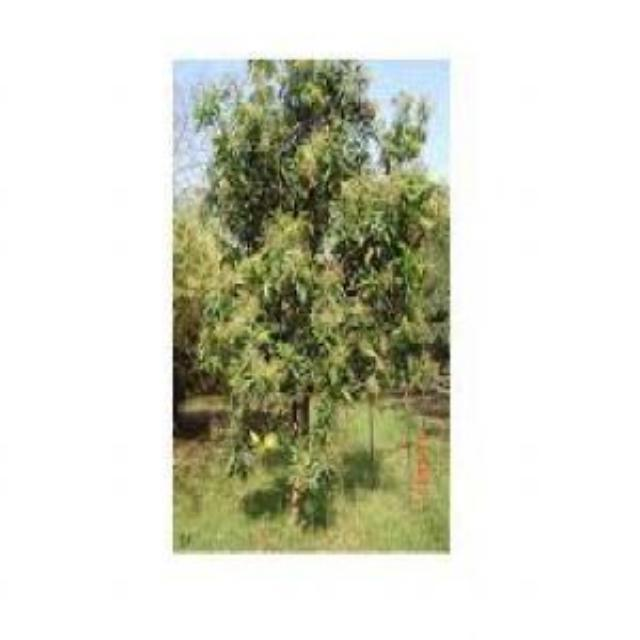tree: (184, 60, 450, 520)
